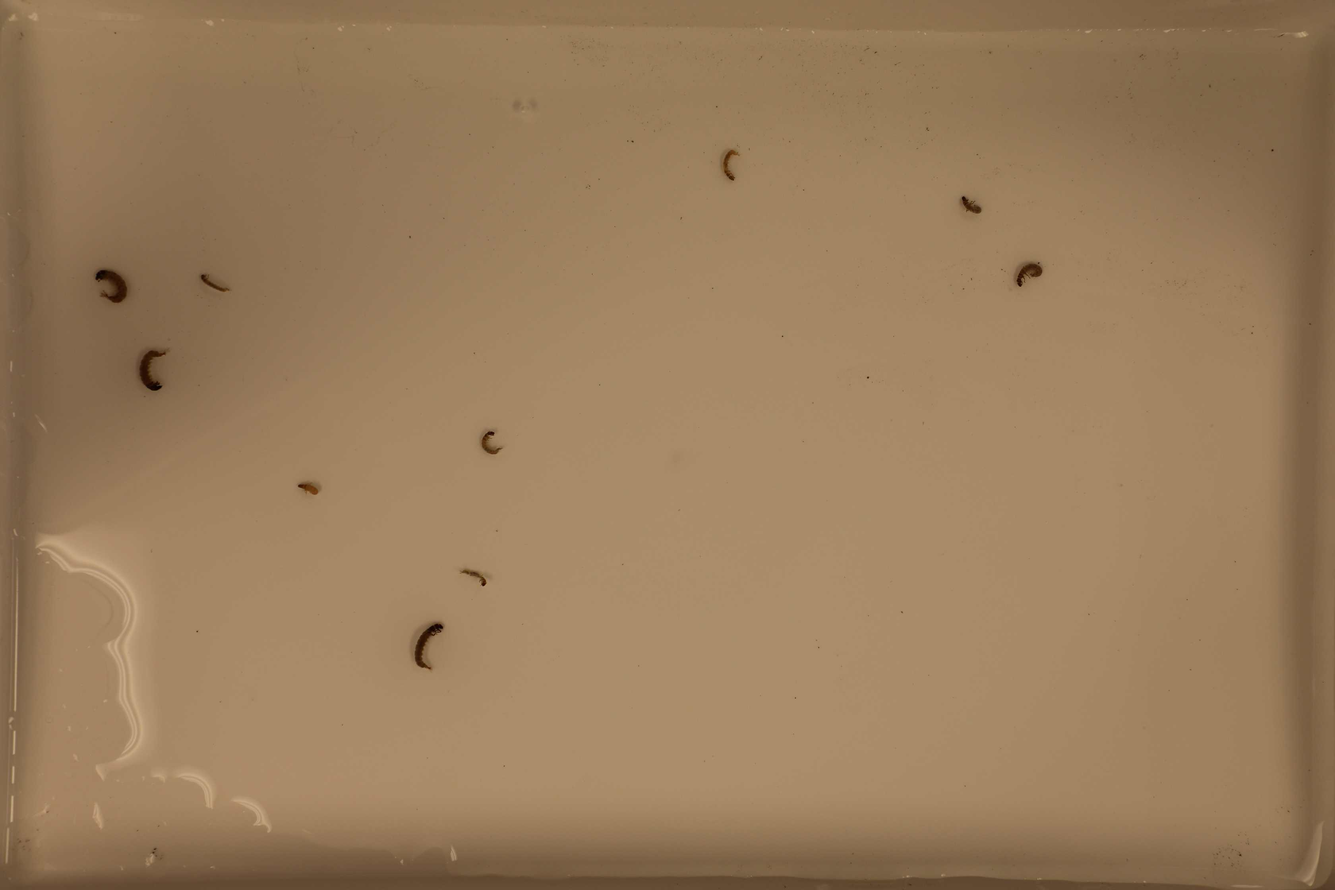Cadisfly: (135, 342, 172, 390), (409, 621, 443, 672), (91, 266, 129, 304), (196, 269, 233, 297), (1014, 258, 1044, 289), (461, 563, 494, 591), (477, 431, 509, 457), (956, 195, 986, 218), (720, 149, 740, 178), (296, 479, 320, 499)
